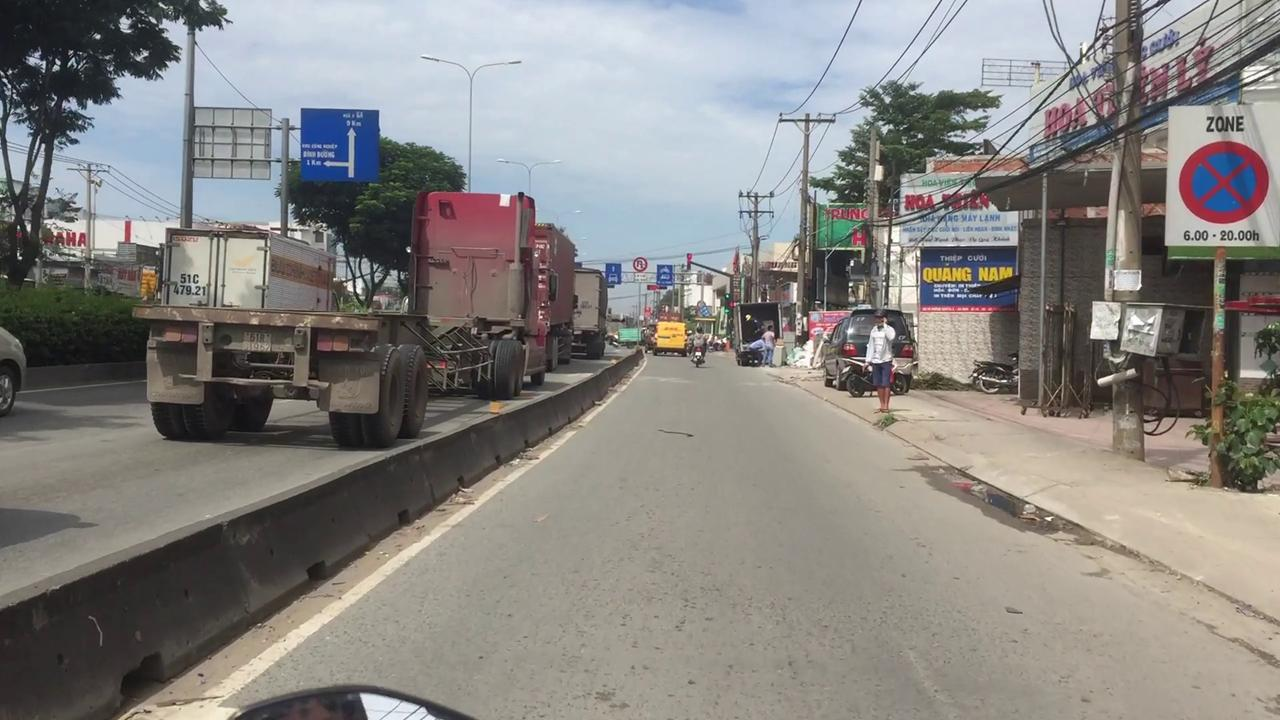P.103a: (1176, 140, 1268, 222)
